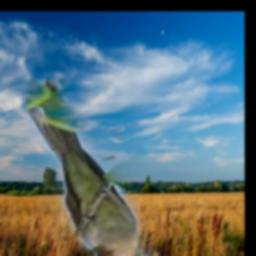Cuckoo: (26, 79, 160, 256)
